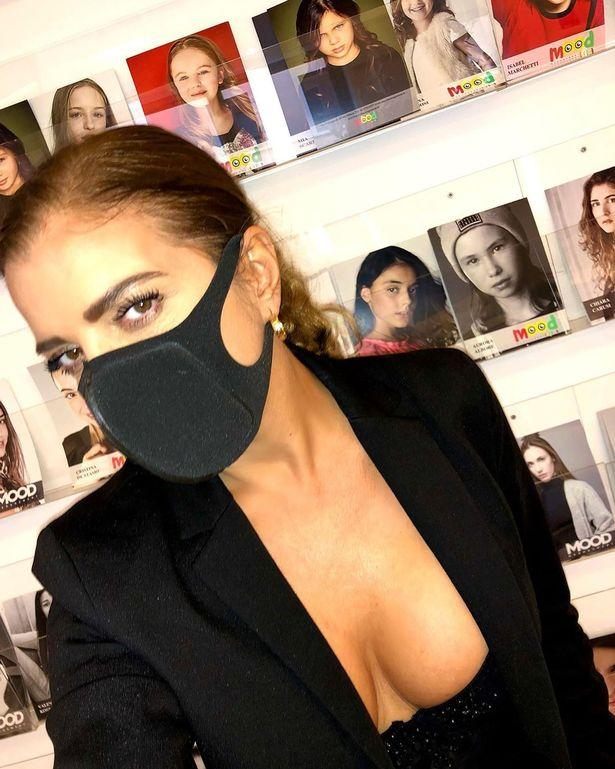Wearing Mask: (0, 137, 340, 505)
